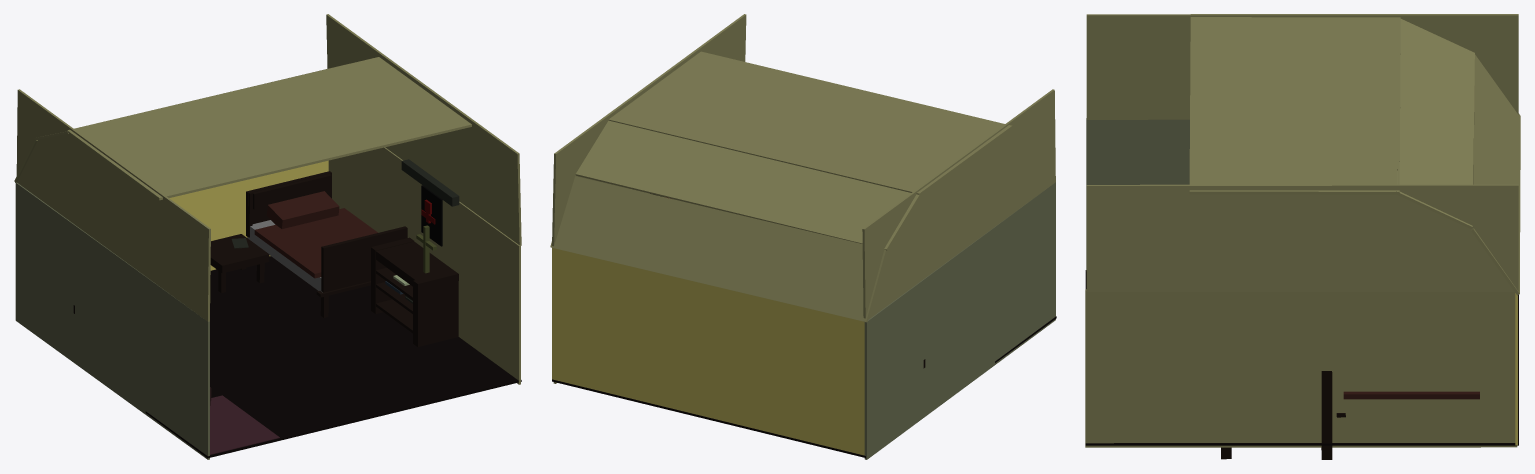
File: Outlast room update2.obj
3 views of the same model, side by side, from view 1: azimuth 30°, elevation 25°; view 2: azimuth 150°, elevation 25°; view 3: azimuth 270°, elevation 25° (orthographic). The views are drawn at different scales.
Parts seen in each view (by area): view 1: Cube, Cube.004, Cube.006, Cube.003, Cube.005, Cube.007, Cube.001, Cube.020, Cube.023, Cube.010, Cube.059, Cube.019 (+9 smaller); view 2: Cube.001, Cube.004, Cube.006, Cube.002, Cube.009, Cube.003, Cube.007, Cube; view 3: Cube.005, Cube.007, Cube.004, Cube.003, Cube.009, Cube.006, Cube.002, Cube, Cube.020, Cube.024, Cube.001.
Part boxes in pixels (x1,y1,x2,y2): Cube: [145, 256, 521, 458]; Cube.004: [67, 57, 471, 200]; Cube.006: [15, 182, 209, 459]; Cube.003: [16, 89, 210, 321]; Cube.005: [328, 147, 520, 384]; Cube.007: [326, 14, 521, 245]; Cube.001: [169, 160, 328, 270]; Cube.020: [254, 208, 377, 278]; Cube.023: [413, 270, 458, 346]; Cube.010: [321, 226, 407, 292]; Cube.059: [210, 395, 279, 454]; Cube.019: [266, 191, 339, 228]; Cube.001: [552, 248, 864, 455]; Cube.004: [608, 51, 1012, 194]; Cube.006: [864, 182, 1055, 459]; Cube.002: [550, 176, 886, 322]; Cube.009: [575, 118, 920, 250]; Cube.003: [862, 89, 1055, 322]; Cube.007: [552, 14, 746, 246]; Cube: [552, 316, 1056, 457]; Cube.005: [1085, 289, 1517, 447]; Cube.007: [1086, 184, 1518, 291]; Cube.004: [1189, 14, 1400, 194]; Cube.003: [1086, 14, 1518, 119]; Cube.009: [1396, 19, 1474, 229]; Cube.006: [1086, 118, 1189, 270]; Cube.002: [1471, 54, 1520, 295]; Cube: [1085, 270, 1518, 445]; Cube.020: [1343, 391, 1479, 399]; Cube.024: [1321, 371, 1332, 459]; Cube.001: [1515, 293, 1517, 445].
Bounding box in the file's own units: 32.66 × 23.61 × 34.02.
